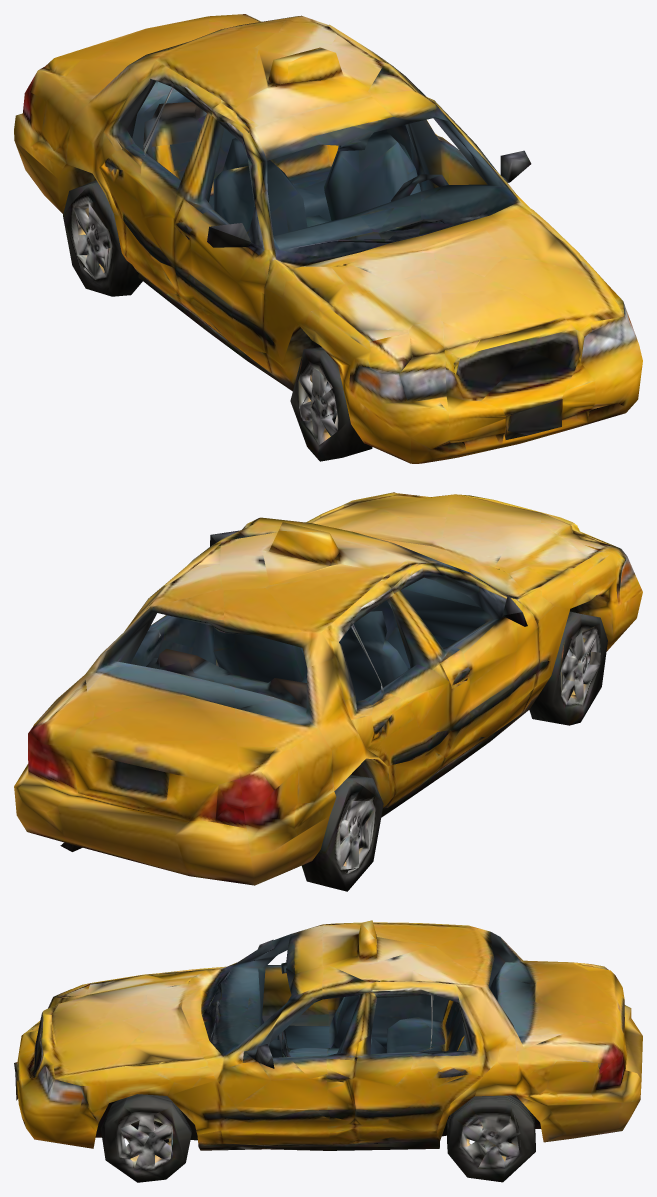
File: traffic-taxi.glb
3 renders of one model, top to bottom at view 1: azimuth 30°, elevation 25°; view 2: azimuth 150°, elevation 25°; view 3: azimuth 270°, elevation 25°, orthographic. The views are drawn at different scales.
Parts seen in each view (by area): view 1: tripo_node_0fd3e3c9-6398-41d1-aee8-a2daabd06ea7; view 2: tripo_node_0fd3e3c9-6398-41d1-aee8-a2daabd06ea7; view 3: tripo_node_0fd3e3c9-6398-41d1-aee8-a2daabd06ea7.
Boxes of the visible parts, <box> form: tripo_node_0fd3e3c9-6398-41d1-aee8-a2daabd06ea7: <box>14,14,642,463</box>; tripo_node_0fd3e3c9-6398-41d1-aee8-a2daabd06ea7: <box>14,492,642,891</box>; tripo_node_0fd3e3c9-6398-41d1-aee8-a2daabd06ea7: <box>14,920,642,1182</box>.
Size of the model in its own units: 0.4363 by 0.3504 by 0.9752.
Materials: 1 (1 with a texture image).
